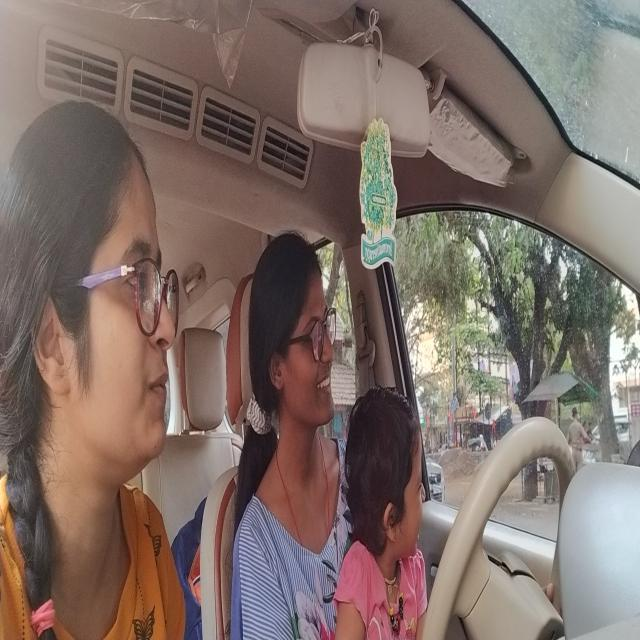child: (346, 378, 429, 572)
person: (1, 90, 175, 503), (249, 221, 339, 444)
